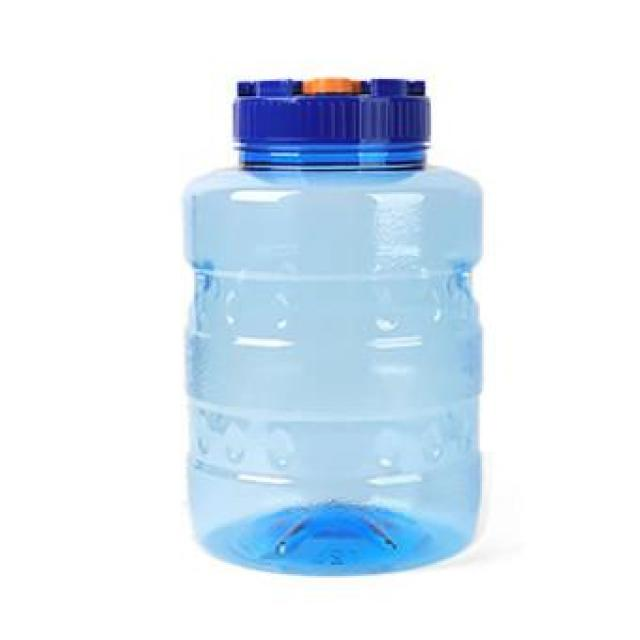bottle: (159, 40, 507, 616)
